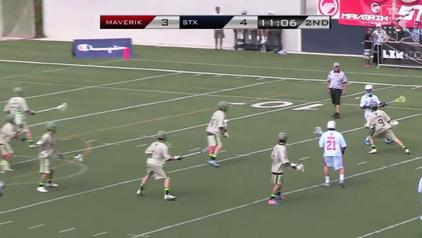stay: (326, 61, 347, 115)
walk: (137, 127, 183, 206), (317, 118, 351, 194), (364, 101, 406, 150), (206, 101, 232, 170), (267, 132, 293, 201), (31, 127, 61, 185), (6, 93, 35, 135)
